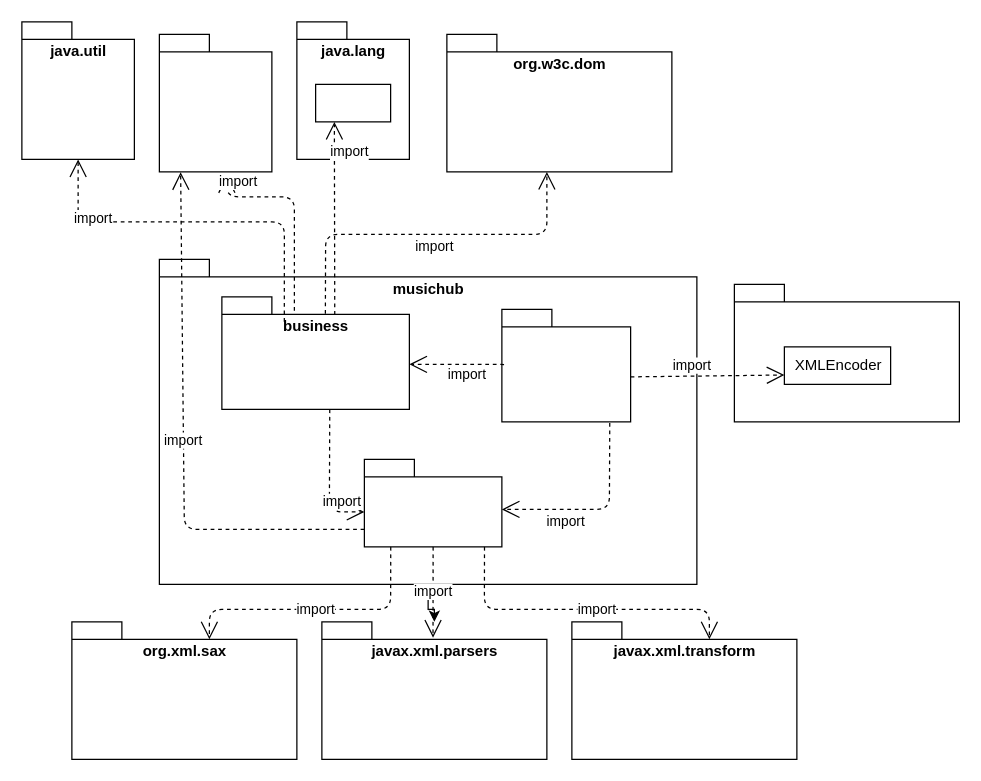
Some shapes in this 981 by 781 pixel diagram are drawn without their labels. The shapes that lost their labels are listed below. From the top down, each one's box as (x1, y1, x2, y2) in pixels, then its label:
(158, 33, 272, 172): java.io
(314, 83, 391, 122): Exception
(501, 308, 631, 422): main
(733, 283, 959, 422): java.beans
(363, 458, 502, 547): util
